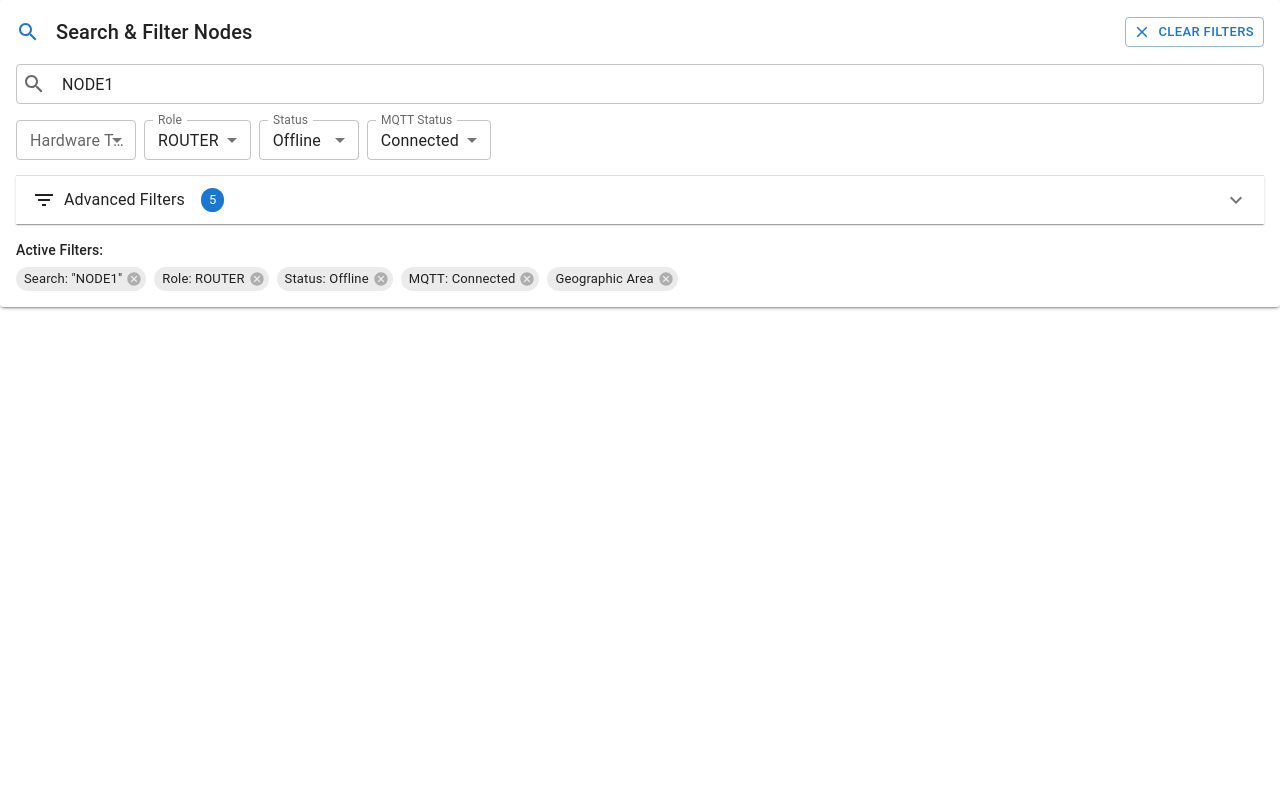
Search and Filtering Component › Geographic Area Filtering › should validate geographic bounds format
This screenshot has width=1280, height=800.
First expand the advanced filters section
Click the text "Advanced Filters".
click(124, 200)  # box [64, 188, 185, 212]
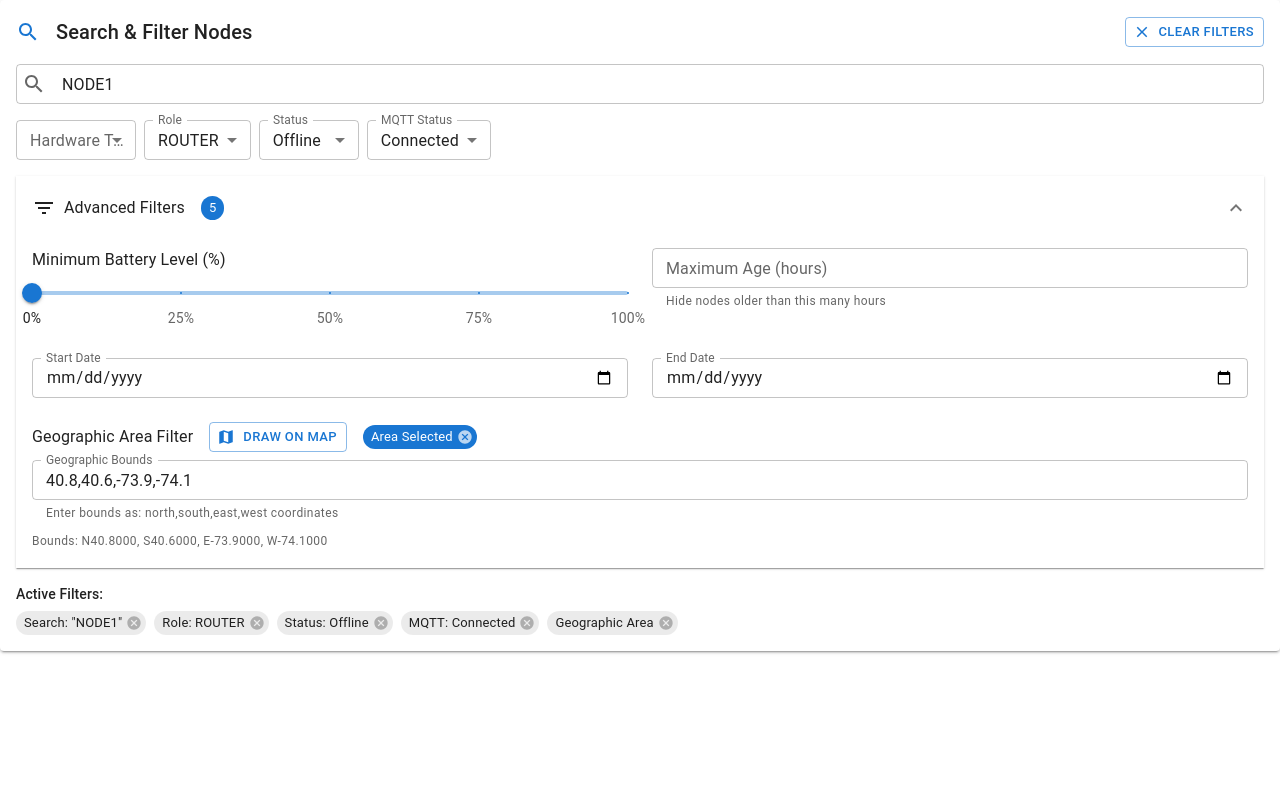
Replace the text in the field labelled "Geographic Bounds" with "invalid-bounds" at point(640, 480), box [32, 460, 1248, 500]
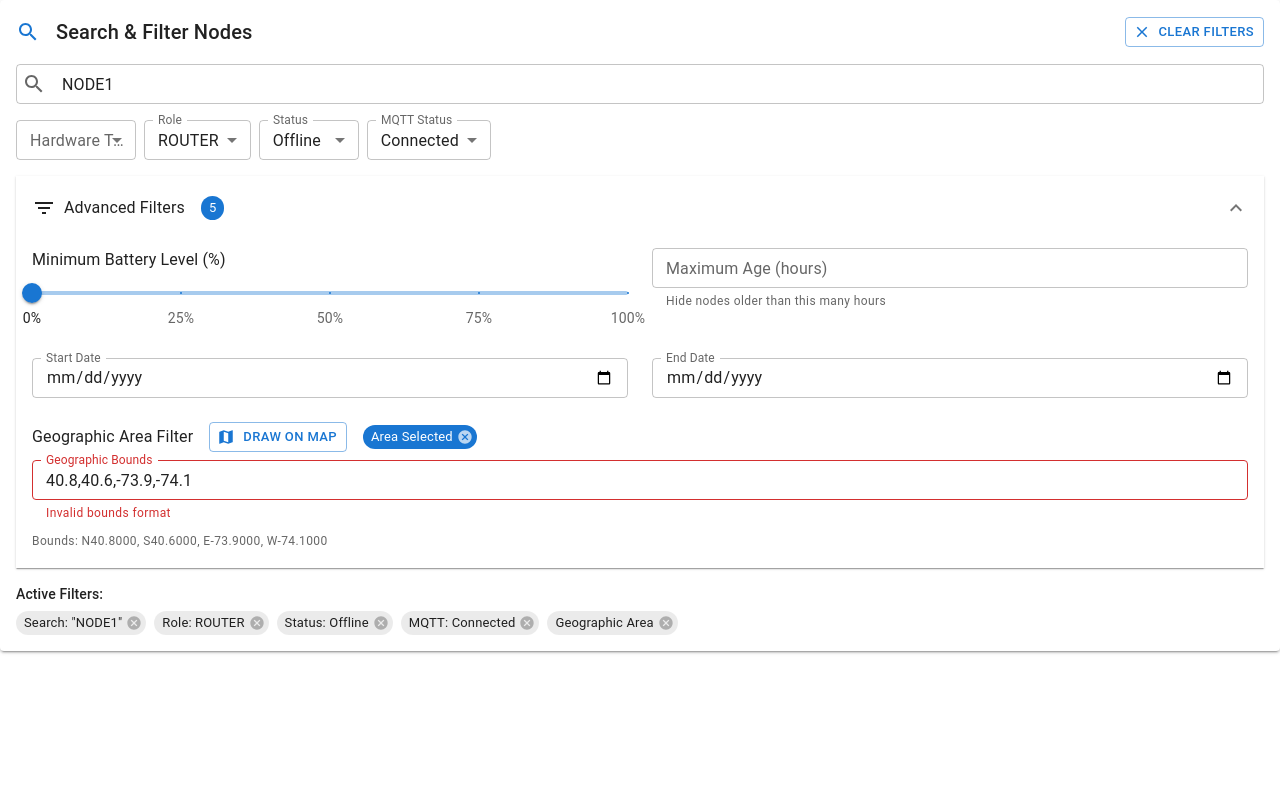
Expected: the text "Invalid bounds format" is shown, [46, 506, 171, 520]
